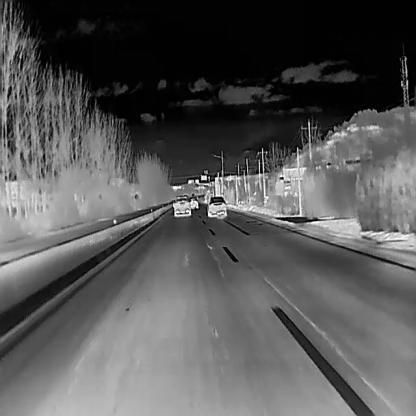car: (207, 195, 227, 218), (173, 194, 191, 216), (189, 199, 198, 209)
